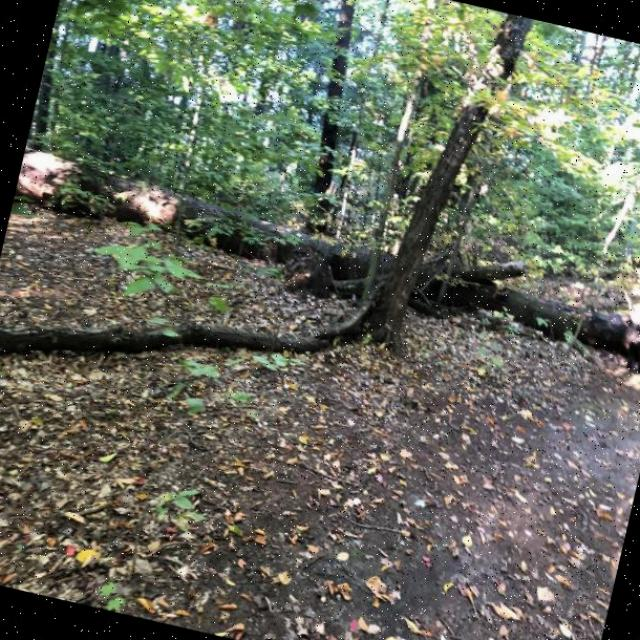fallen_object: (5, 127, 640, 382)
